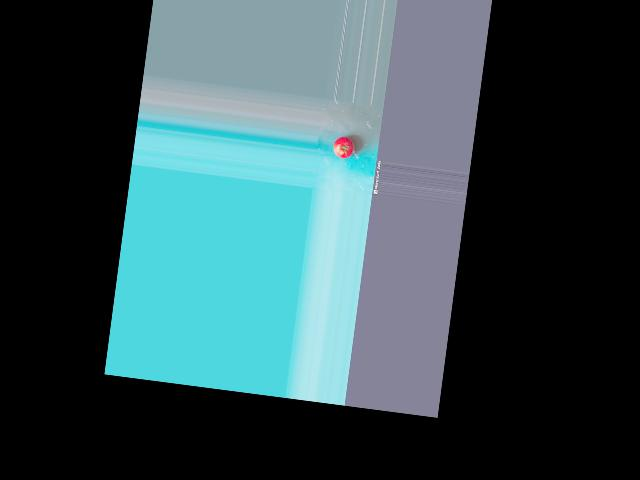tomato: (332, 135, 356, 159)
